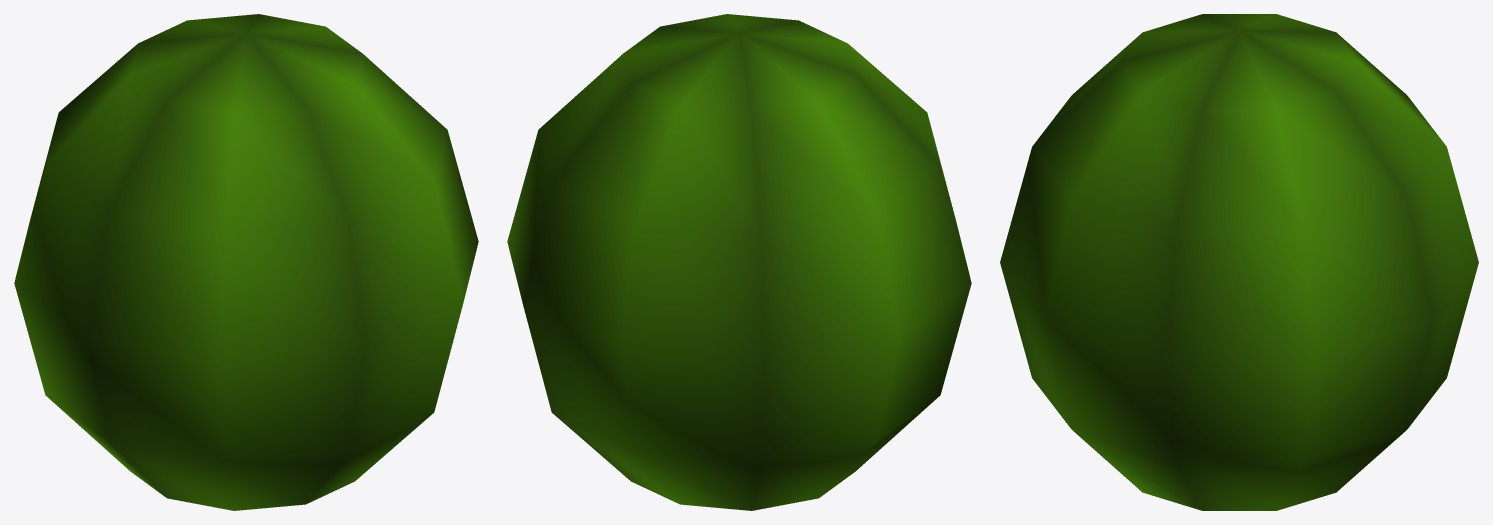
The model's file is Melon000.fbx.
3 views of the same model, side by side, from view 1: azimuth 30°, elevation 25°; view 2: azimuth 150°, elevation 25°; view 3: azimuth 270°, elevation 25° (orthographic).
Visible parts, largest first — view 1: Melon; view 2: Melon; view 3: Melon.
Part boxes in pixels (left/top/right/bottom): Melon: left=14, top=14, right=478, bottom=510; Melon: left=507, top=14, right=971, bottom=510; Melon: left=1000, top=14, right=1478, bottom=510.
Size of the model in its own units: 29.69 by 33.28 by 31.22.
